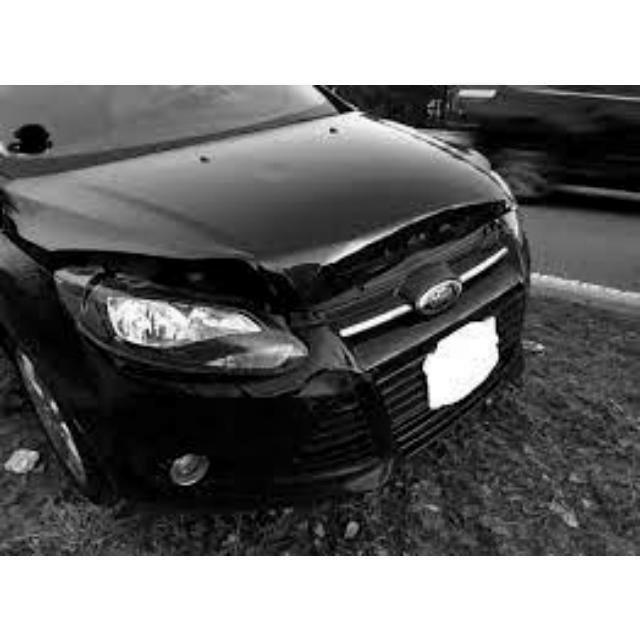bonnet-dent: (0, 134, 520, 275)
